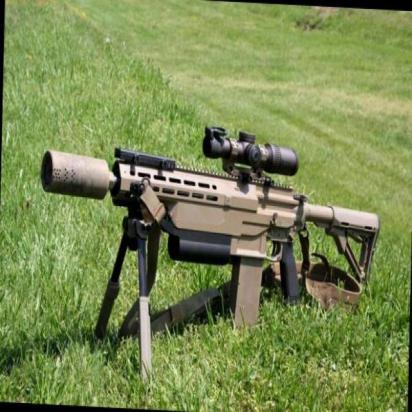Gun: (34, 112, 381, 322)
